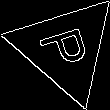P_E: (34, 23, 96, 74)
